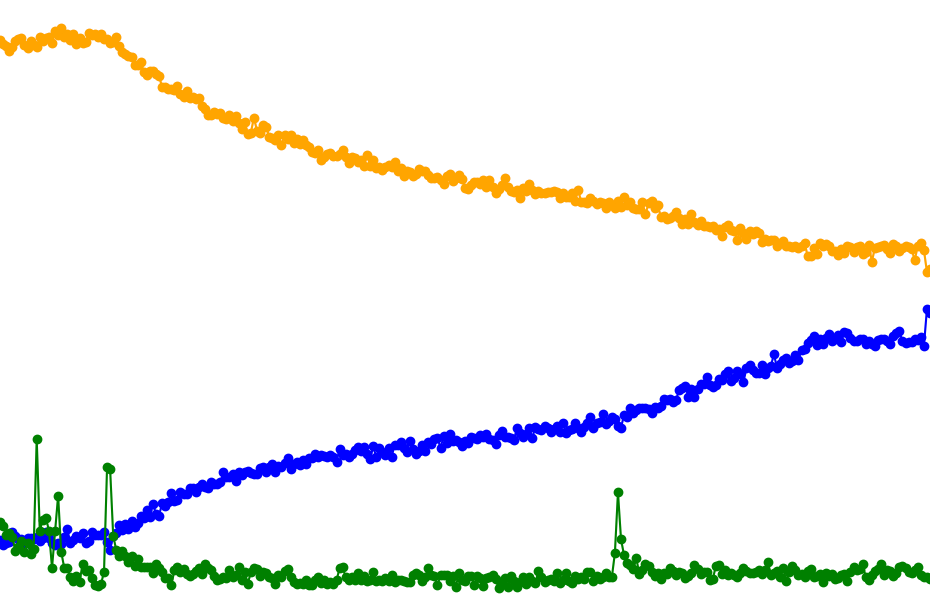CO2 Problem: (146, 0, 367, 616), (807, 0, 930, 616)
Condensation (CO2): (367, 0, 587, 616)
High CO2: (660, 0, 930, 616)
Normal: (367, 0, 930, 616), (367, 0, 881, 616), (440, 0, 930, 616), (146, 0, 587, 616), (0, 0, 367, 616), (146, 0, 367, 616), (367, 0, 587, 616), (660, 0, 807, 616), (0, 0, 146, 616)
O2 Problem: (660, 0, 930, 616), (440, 0, 587, 616), (807, 0, 930, 616)
